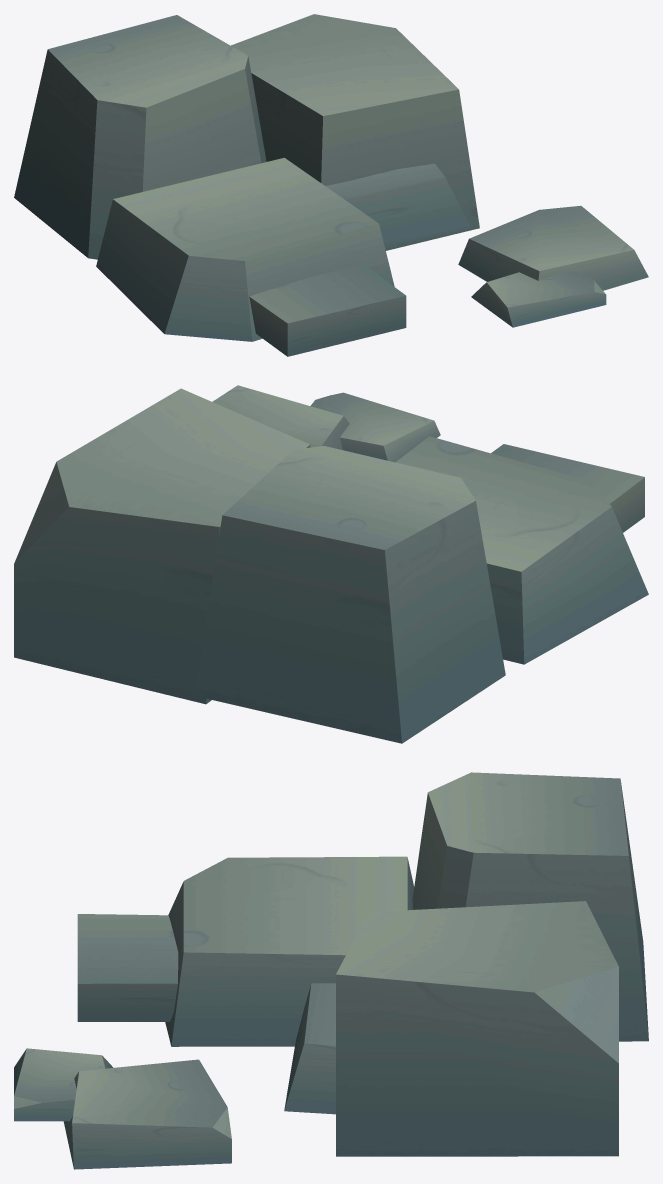
The model's file is WallCorner-003_40_05_3839.fbx.
3 renders of one model, top to bottom at view 1: azimuth 30°, elevation 25°; view 2: azimuth 150°, elevation 25°; view 3: azimuth 270°, elevation 25°, orthographic. The views are drawn at different scales.
Visible parts, largest first — view 1: Corner4 (1), DecoRocks (1); view 2: Corner4 (1), DecoRocks (1); view 3: Corner4 (1), DecoRocks (1).
Part boxes in pixels (x1,y1,x2,y2): Corner4 (1): (14, 14, 479, 341); DecoRocks (1): (249, 163, 648, 356); Corner4 (1): (14, 388, 648, 743); DecoRocks (1): (212, 385, 644, 532); Corner4 (1): (165, 772, 648, 1156); DecoRocks (1): (14, 914, 335, 1169).
Size of the model in its own units: 3.02 by 1.17 by 3.31.
